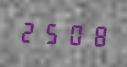eight: (84, 21, 105, 49)
five: (40, 18, 61, 46)
two: (18, 17, 39, 45)
zero: (62, 19, 83, 48)
